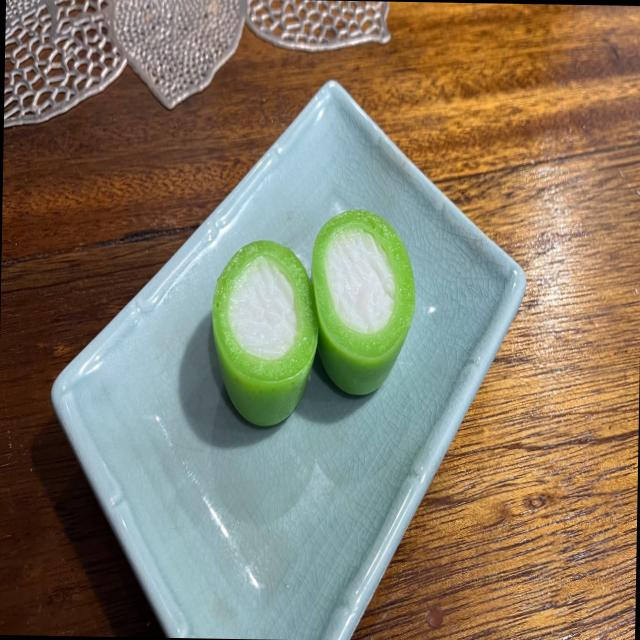nona-manis: (211, 241, 317, 426), (311, 209, 414, 394)
